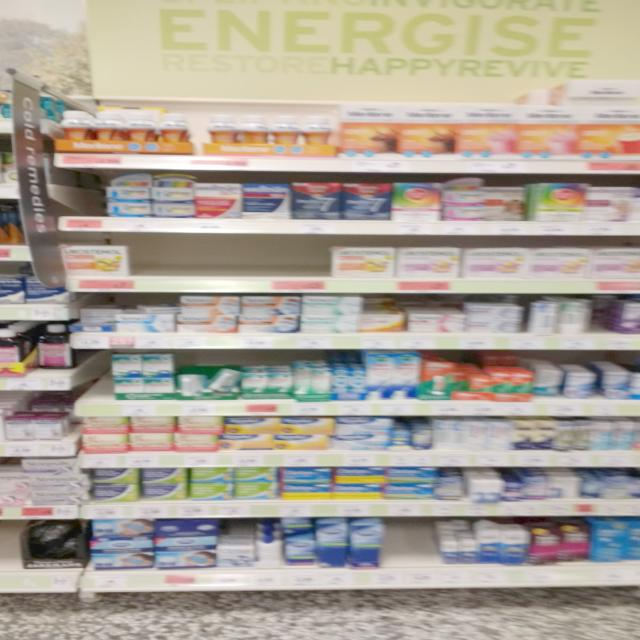empty_space: (127, 232, 326, 276), (384, 524, 432, 567), (75, 360, 113, 396), (216, 521, 258, 547), (582, 300, 614, 328)
